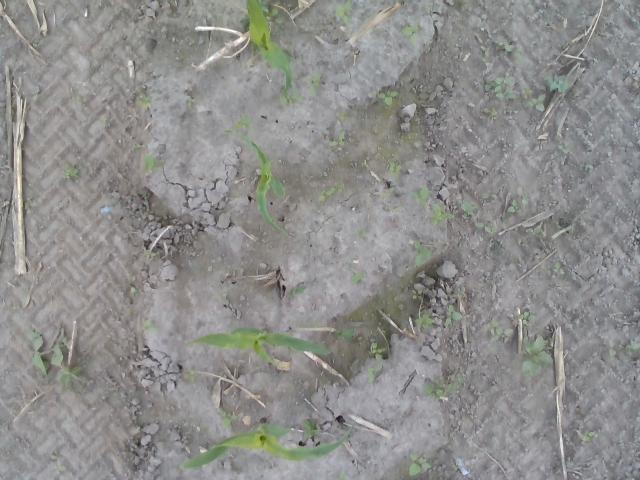Maize: (182, 422, 356, 470), (224, 128, 291, 238), (184, 326, 334, 366), (242, 0, 294, 92)
Weeds: (28, 327, 80, 386), (518, 334, 554, 378), (422, 372, 464, 400), (408, 446, 432, 478), (484, 77, 514, 101), (496, 40, 526, 64), (522, 85, 546, 112), (400, 20, 422, 47), (414, 240, 434, 268), (298, 414, 320, 439), (409, 185, 430, 210), (431, 203, 456, 224), (486, 320, 514, 338), (318, 183, 344, 202), (378, 89, 400, 110), (546, 74, 570, 93), (218, 409, 242, 428), (232, 114, 257, 132), (335, 0, 353, 24), (444, 304, 462, 327), (368, 340, 387, 360), (306, 73, 322, 96), (384, 159, 402, 179), (142, 154, 160, 174), (329, 128, 348, 146), (50, 451, 66, 472), (142, 318, 160, 336), (414, 314, 434, 330), (334, 328, 354, 344), (367, 366, 384, 384), (519, 310, 537, 326), (134, 96, 152, 112), (622, 338, 640, 354), (280, 94, 305, 105), (464, 200, 481, 216), (262, 3, 278, 20), (478, 222, 497, 236), (286, 286, 304, 300), (62, 163, 80, 177), (506, 198, 520, 214), (182, 369, 198, 383), (537, 9, 551, 25), (352, 271, 368, 284), (557, 144, 577, 154), (526, 226, 544, 237), (409, 288, 424, 301), (607, 341, 617, 360), (354, 227, 368, 240), (335, 468, 349, 480), (128, 273, 136, 294), (336, 111, 349, 123), (581, 431, 593, 443), (552, 262, 564, 274), (582, 162, 592, 176), (72, 95, 86, 105), (144, 250, 158, 257), (480, 192, 496, 198), (488, 110, 497, 120), (456, 287, 466, 295), (384, 189, 394, 196), (187, 97, 193, 108), (520, 192, 528, 200), (426, 7, 432, 14)
